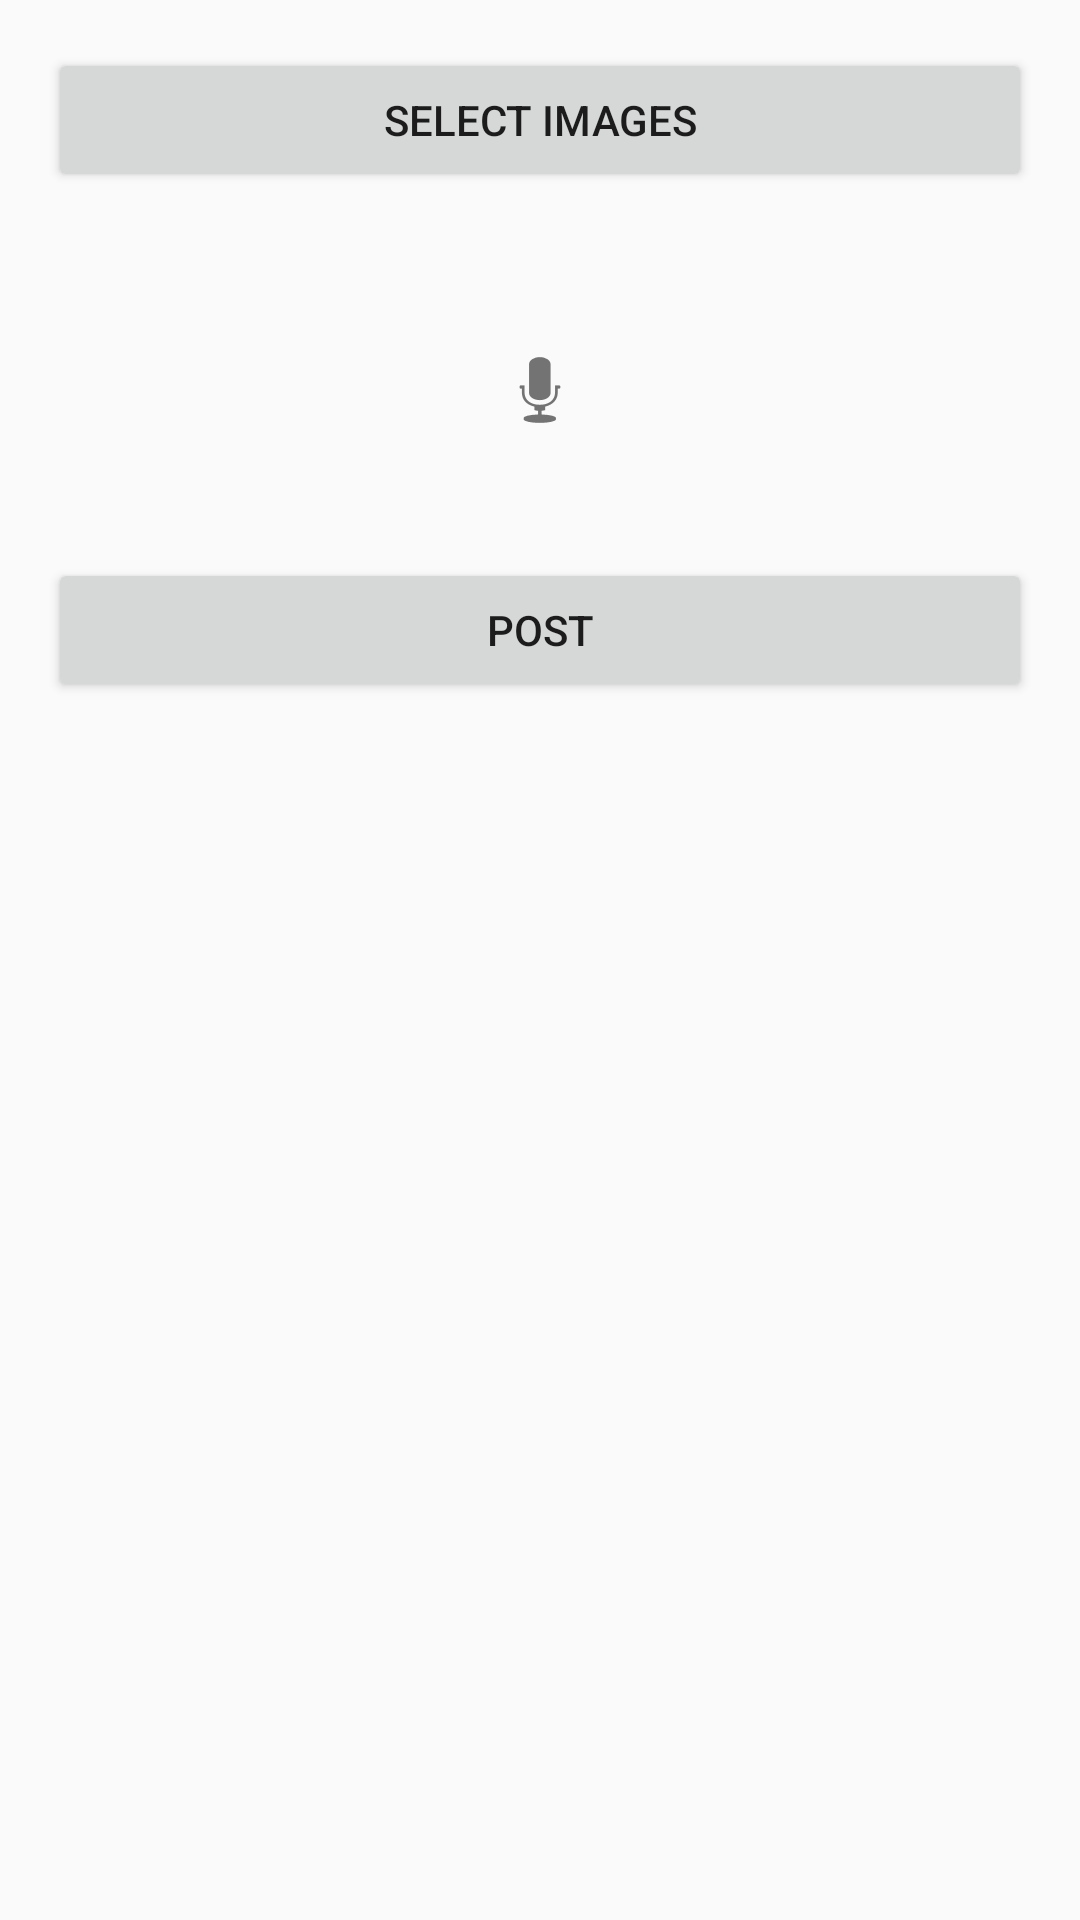

Where icons sit on this 1080*1920 app screen, as box(x1, y1, x2, y2):
speak now: box(519, 357, 561, 423)
